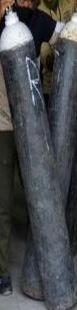cylinder: (1, 1, 77, 310)
